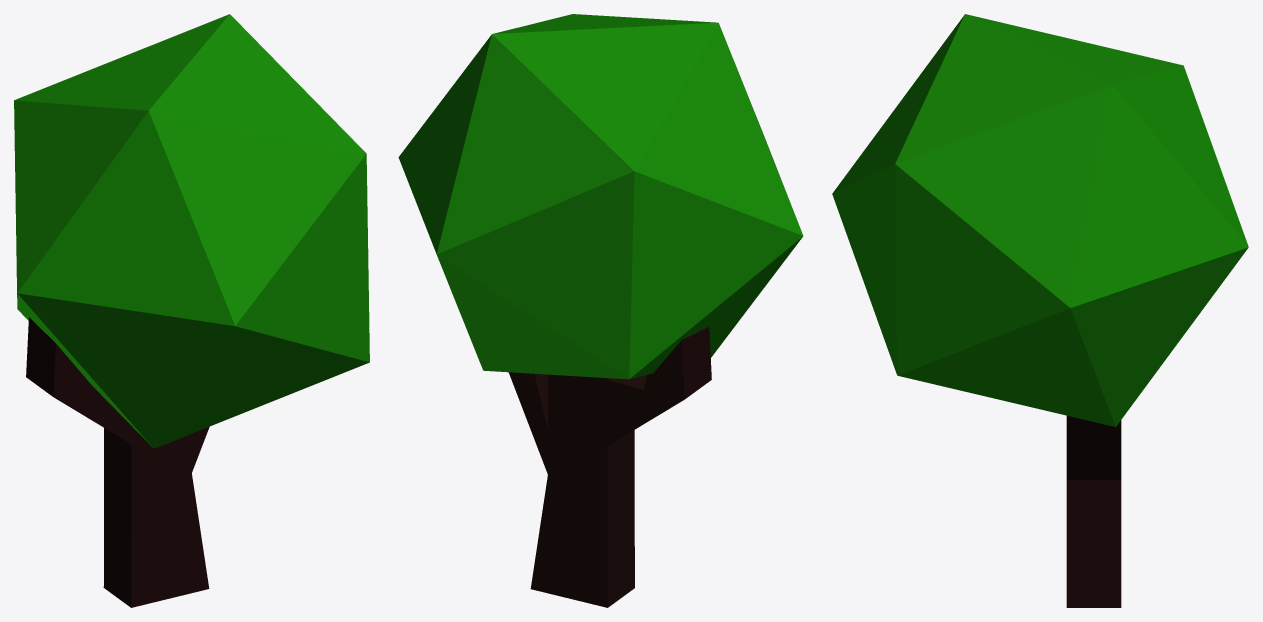
The model's file is tree6.FBX.
3 views of the same model, side by side, from view 1: azimuth 30°, elevation 25°; view 2: azimuth 150°, elevation 25°; view 3: azimuth 270°, elevation 25° (orthographic).
Visible parts, largest first — view 1: Tree6; view 2: Tree6; view 3: Tree6.
Boxes of the visible parts, box(x1,y1,x2,y2) form: Tree6: box(14, 14, 369, 607); Tree6: box(398, 14, 803, 607); Tree6: box(832, 14, 1248, 607).
Bounding box in the file's own units: 100 × 138 × 95.99.
